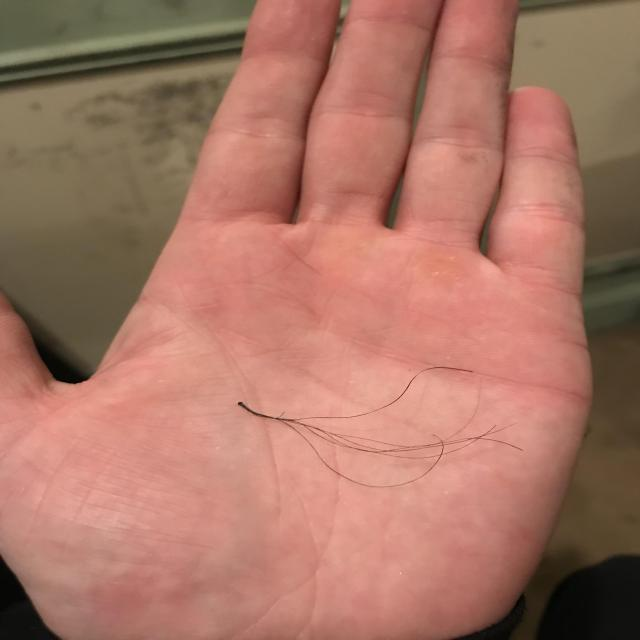hair: (287, 364, 526, 489)
